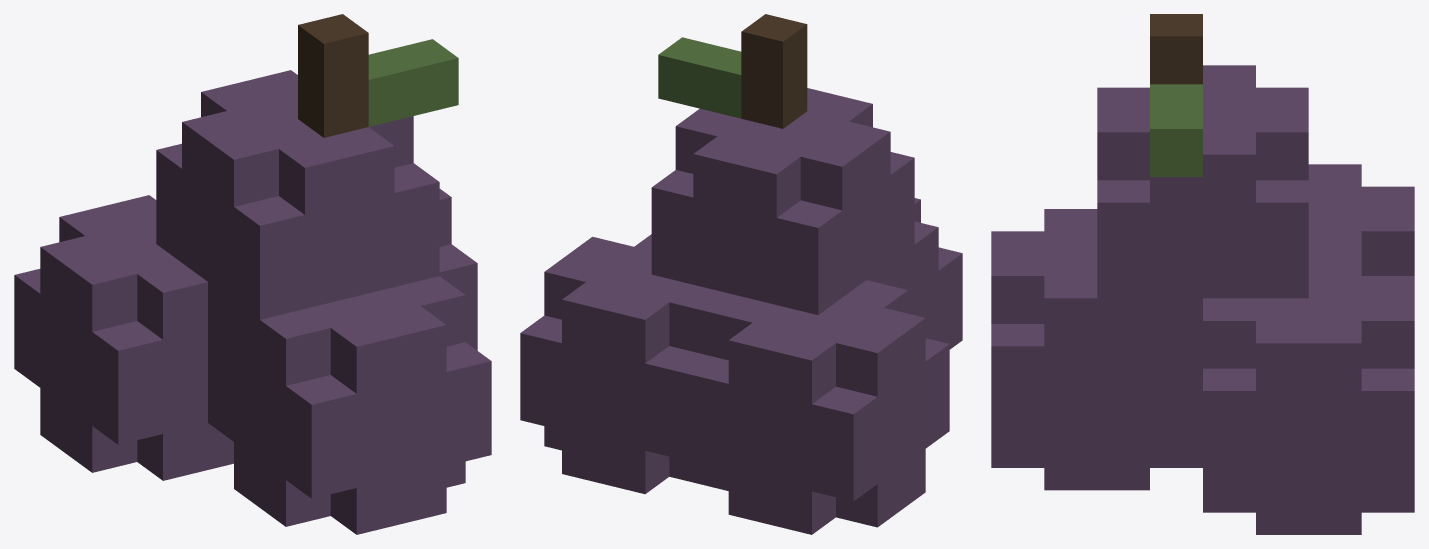
The model's file is grape.glb.
3 views of the same model, side by side, from view 1: azimuth 30°, elevation 25°; view 2: azimuth 150°, elevation 25°; view 3: azimuth 270°, elevation 25° (orthographic). The views are drawn at different scales.
Visible parts, largest first — view 1: VoxelVisual; view 2: VoxelVisual; view 3: VoxelVisual.
Boxes of the visible parts, x1,y1,x2,y2 form: VoxelVisual: (14, 14, 491, 534); VoxelVisual: (520, 14, 962, 534); VoxelVisual: (991, 14, 1414, 534).
Size of what is drawn, in the model's own units: 0.5 by 0.5625 by 0.5.
